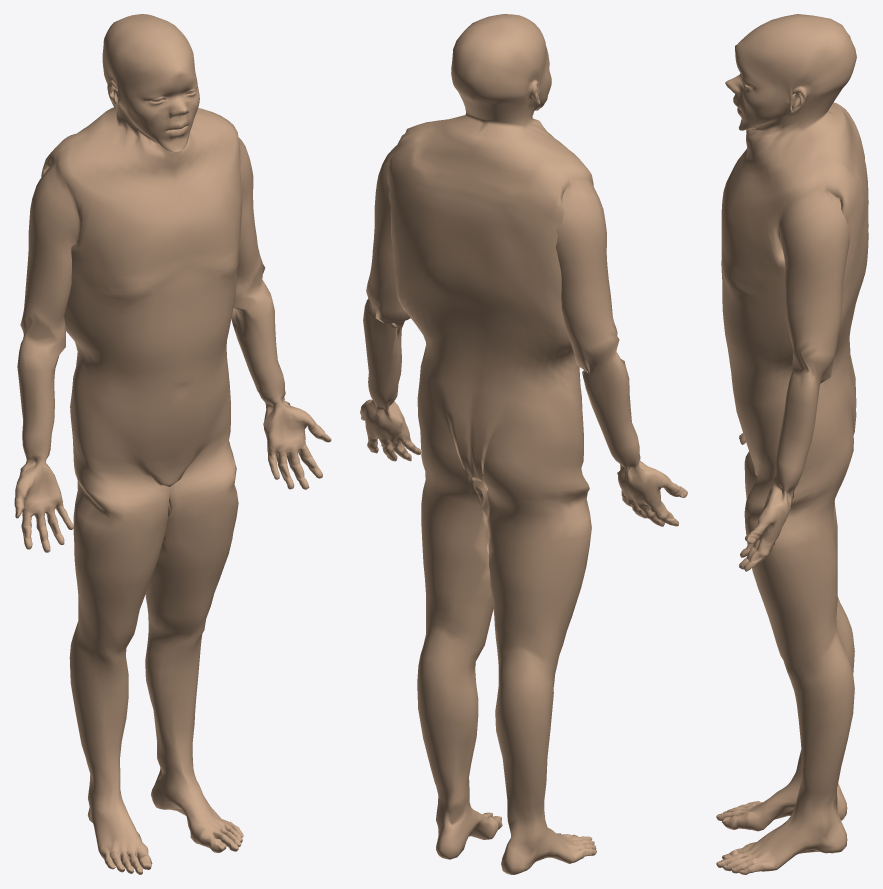
Rendered from skin-candidate-r30.glb.
3 renders of one model, left to right at view 1: azimuth 30°, elevation 25°; view 2: azimuth 150°, elevation 25°; view 3: azimuth 270°, elevation 25°, orthographic. The views are drawn at different scales.
Parts seen in each view (by area): view 1: MakeHuman_AT10_skin_fit_candidate_r30; view 2: MakeHuman_AT10_skin_fit_candidate_r30; view 3: MakeHuman_AT10_skin_fit_candidate_r30.
Part boxes in pixels (left/top/right/bottom): MakeHuman_AT10_skin_fit_candidate_r30: left=14, top=14, right=331, bottom=874; MakeHuman_AT10_skin_fit_candidate_r30: left=360, top=14, right=687, bottom=874; MakeHuman_AT10_skin_fit_candidate_r30: left=716, top=14, right=868, bottom=874.
Size of the model in its own units: 0.6953 by 1.72 by 0.287.
